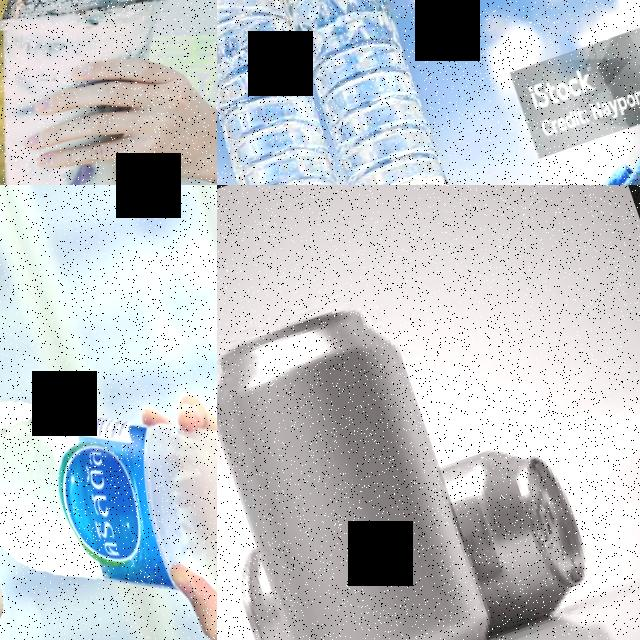bottle: (0, 311, 217, 640), (231, 0, 483, 185), (217, 0, 407, 185)
can: (217, 293, 507, 640), (217, 428, 610, 640)
cup: (0, 0, 217, 185)
